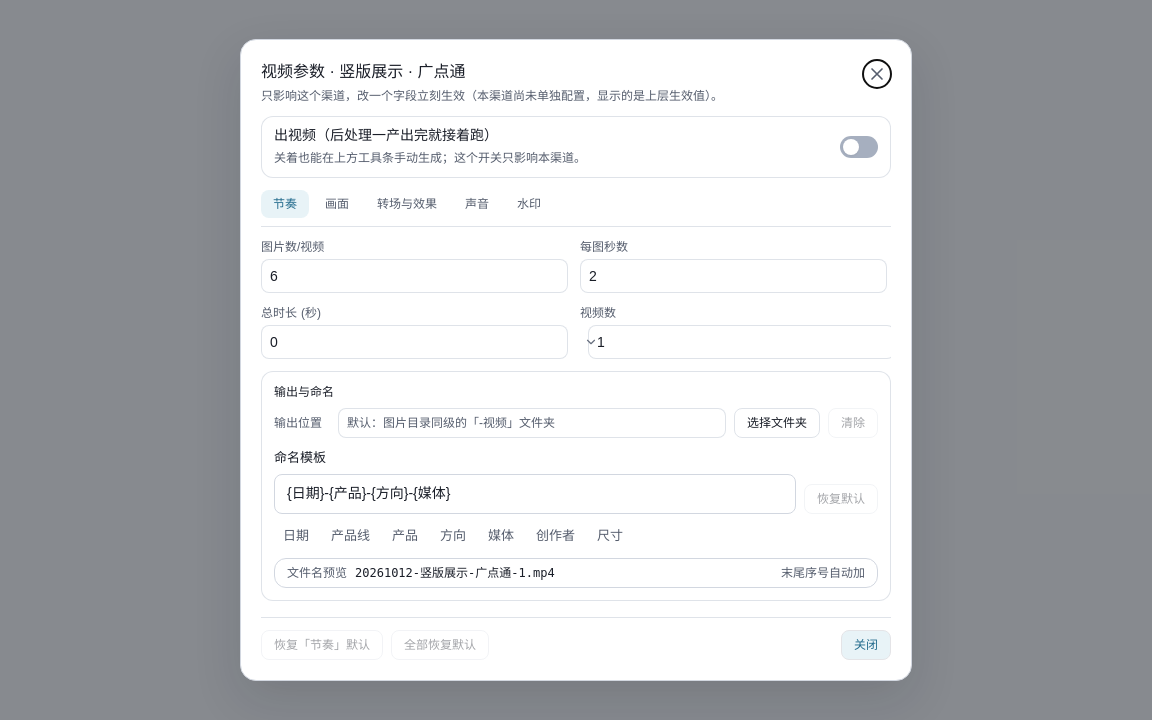
Test: VideoParamsDialog › ⭐ 输出位置：点「选择文件夹」把选中的路径写进本渠道
What coordinates should you click on to do the following:
click the button "选择文件夹"
I would click on:
 (777, 423)
Its box is [734,408,820,438].
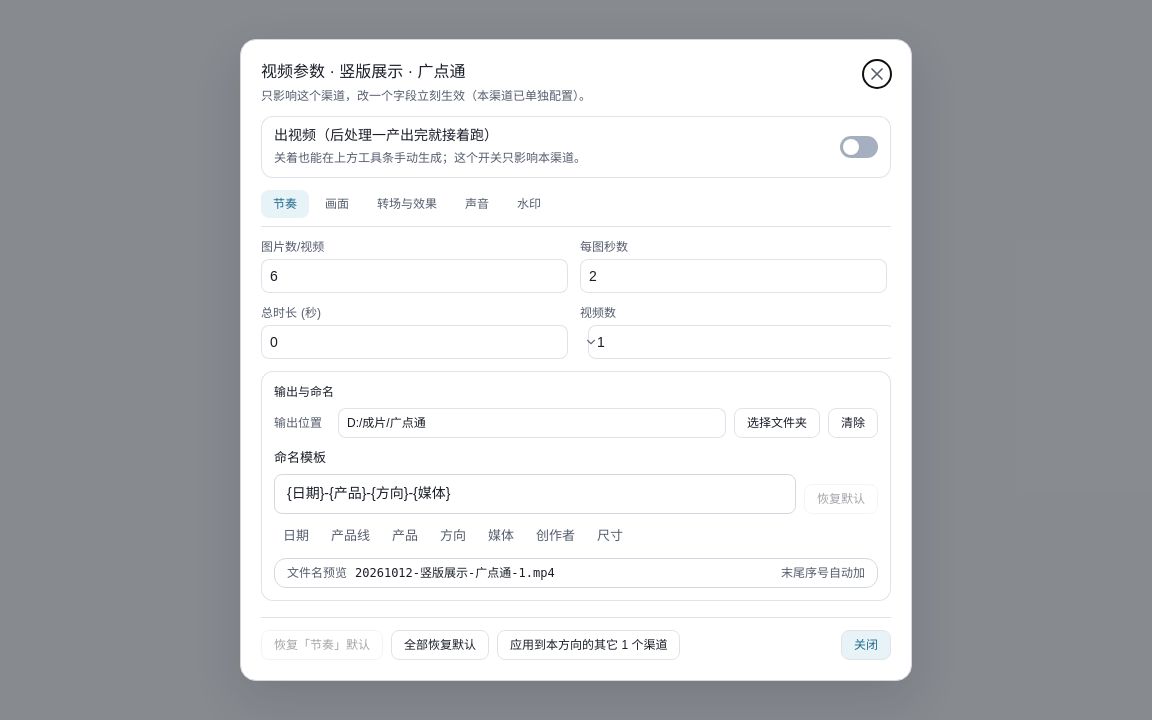
Expected: the text "D:/成片/广点通" is shown, [338,408,726,438]
